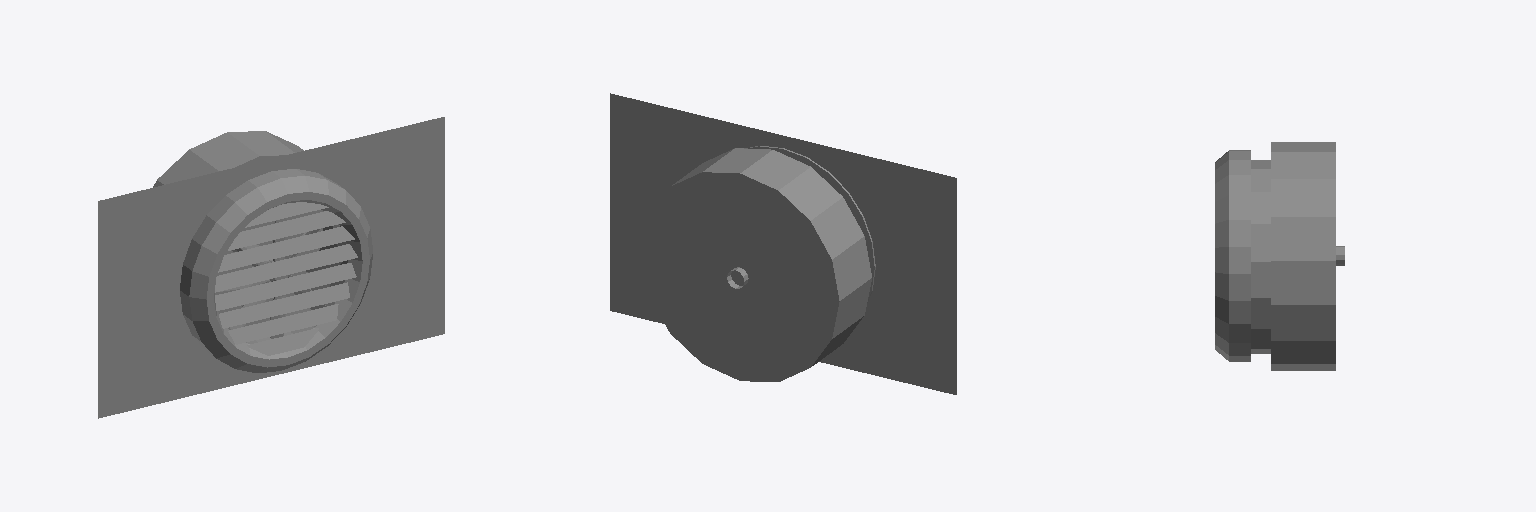
The model's file is Exhaust.obj.
The picture shows the model from 3 angles: view 1: azimuth 30°, elevation 25°; view 2: azimuth 150°, elevation 25°; view 3: azimuth 270°, elevation 25°; orthographic projection.
Parts seen in each view (by area): view 1: SM_ExhaustFan_E; view 2: SM_ExhaustFan_E; view 3: SM_ExhaustFan_E.
Boxes of the visible parts, box(x1,y1,x2,y2) form: SM_ExhaustFan_E: box(98, 117, 444, 418); SM_ExhaustFan_E: box(610, 93, 956, 394); SM_ExhaustFan_E: box(1215, 142, 1344, 370).
Size of the model in its own units: 157 by 94.49 by 50.86.